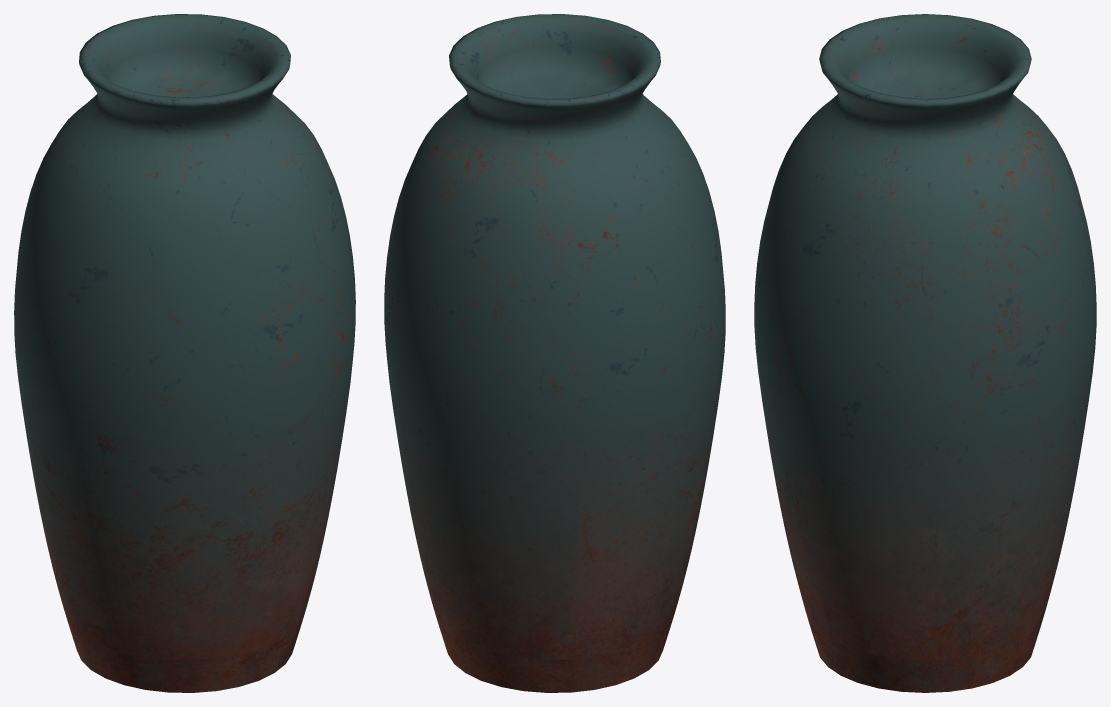
File: vase.fbx
3 renders of one model, left to right at view 1: azimuth 30°, elevation 25°; view 2: azimuth 150°, elevation 25°; view 3: azimuth 270°, elevation 25°, orthographic.
Visible parts, largest first — view 1: vase; view 2: vase; view 3: vase.
Part boxes in pixels (bbox=[...]): vase: bbox=[14, 14, 355, 692]; vase: bbox=[384, 14, 725, 692]; vase: bbox=[754, 14, 1096, 692].
Bounding box in the file's own units: 33.29 × 63.33 × 33.28.
Materials: 1 (1 with a texture image).
